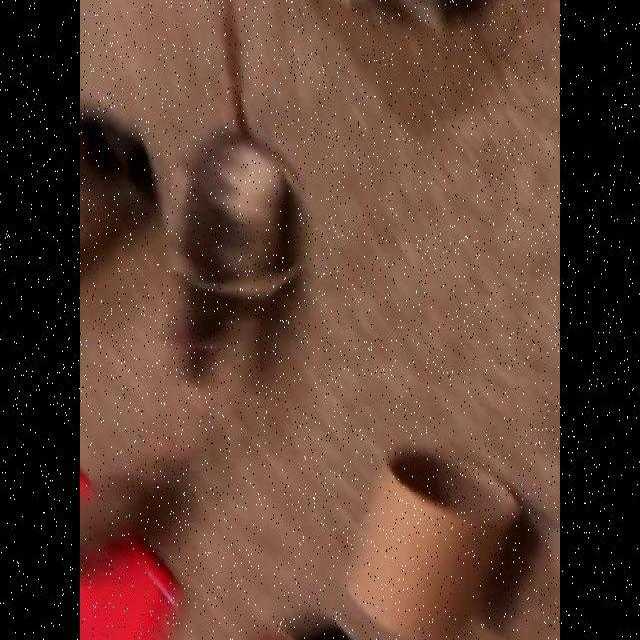rat: (159, 127, 305, 388)
